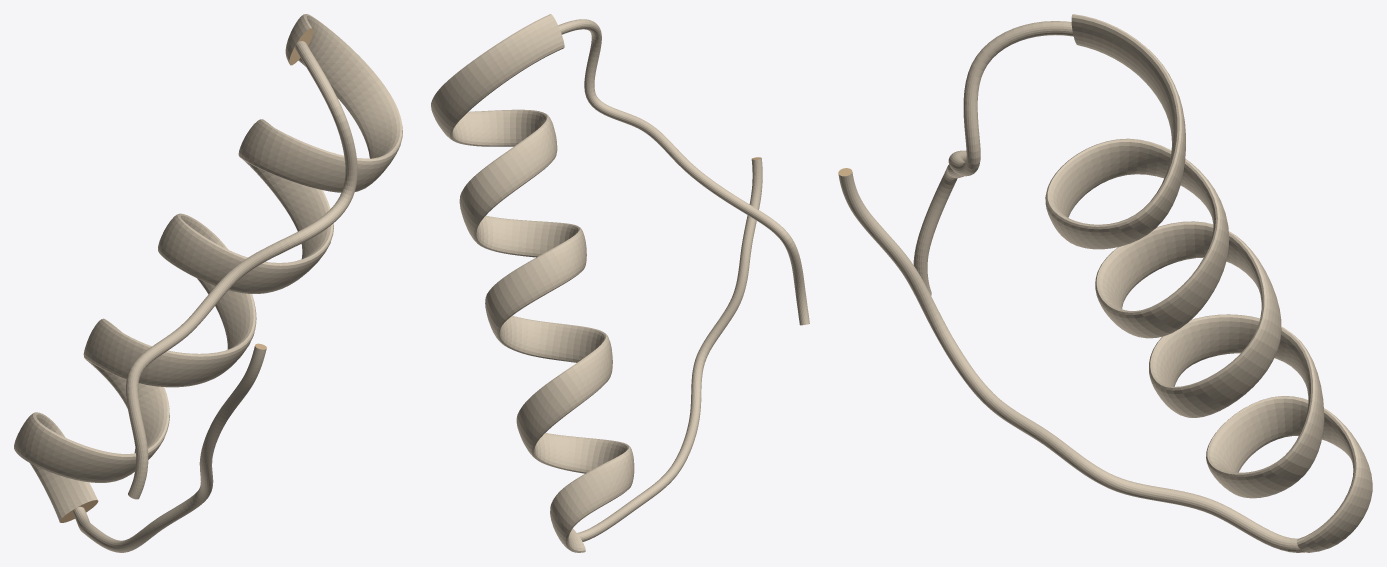
Rendered from SheetrCoilSheet.dae.
3 renders of one model, left to right at view 1: azimuth 30°, elevation 25°; view 2: azimuth 150°, elevation 25°; view 3: azimuth 270°, elevation 25°, orthographic. The views are drawn at different scales.
Visible parts, largest first — view 1: Shape_IndexedTriangleStripSet_028; view 2: Shape_IndexedTriangleStripSet_028; view 3: Shape_IndexedTriangleStripSet_028.
Boxes of the visible parts, box(x1,y1,x2,y2) form: Shape_IndexedTriangleStripSet_028: box(14, 14, 402, 552); Shape_IndexedTriangleStripSet_028: box(431, 14, 809, 552); Shape_IndexedTriangleStripSet_028: box(838, 14, 1372, 552).
Size of the model in its own units: 16.74 by 18.79 by 23.94.
